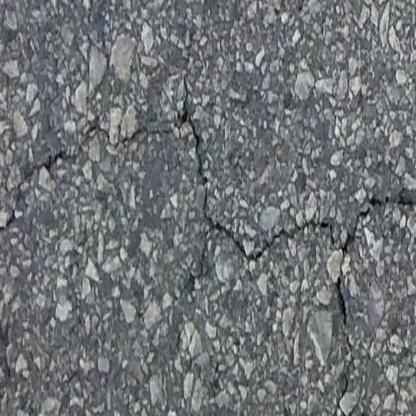Cracks: (0, 89, 416, 340)
